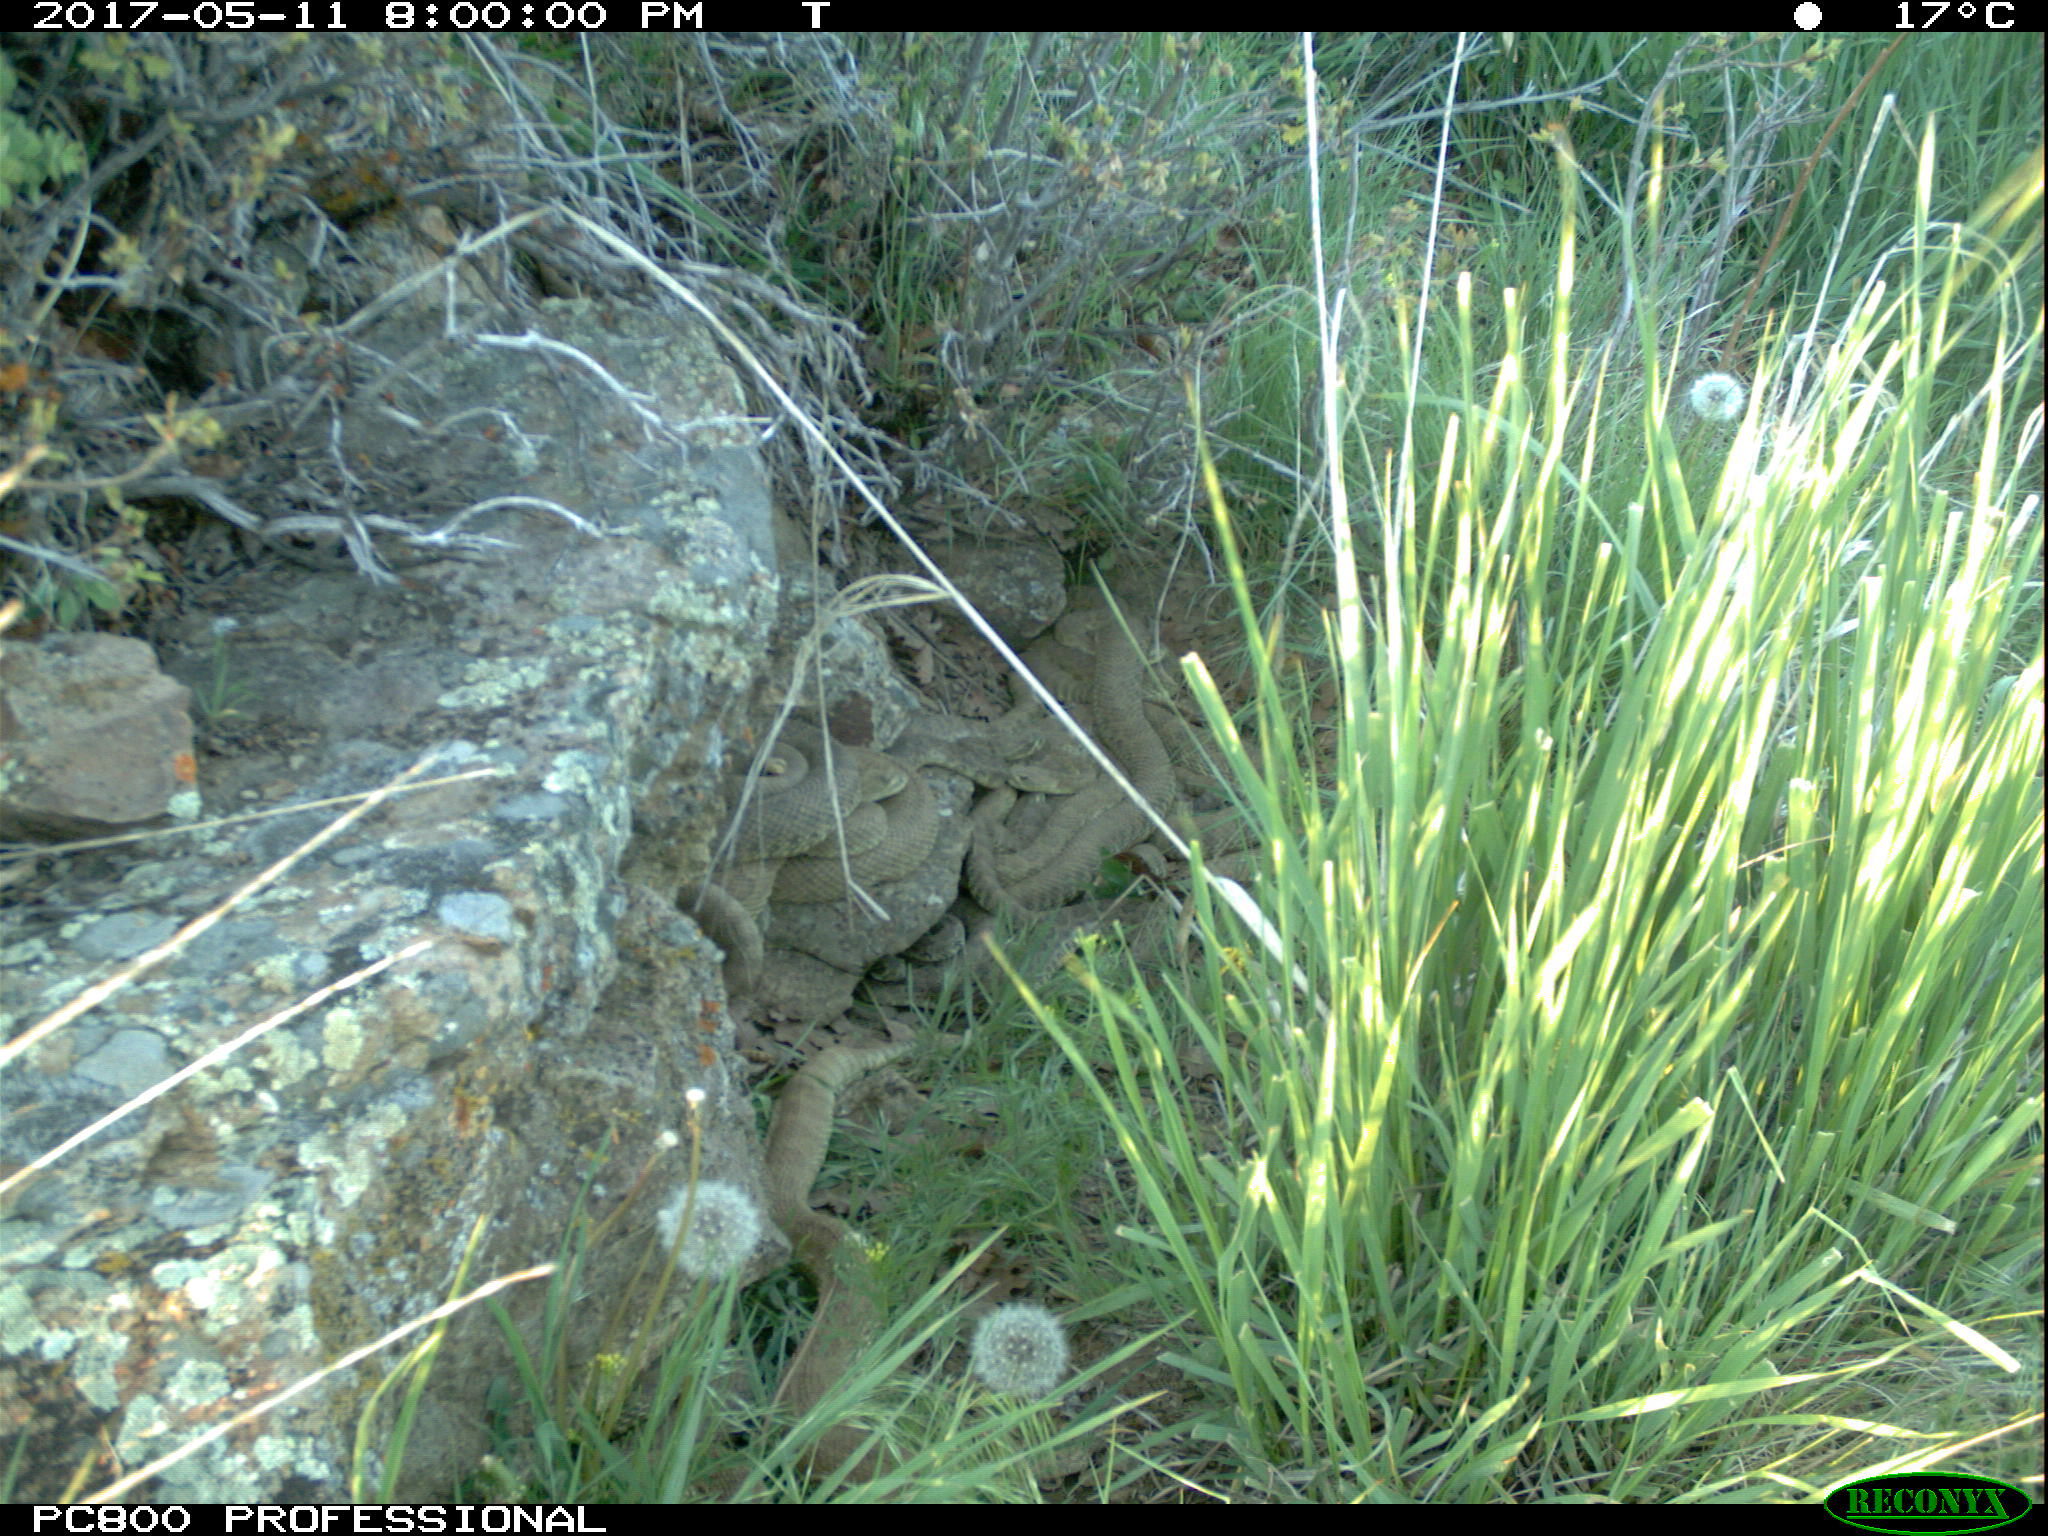snake: (760, 1033, 898, 1484), (1019, 591, 1176, 854), (930, 715, 1097, 908), (731, 726, 932, 876), (1155, 726, 1292, 881), (687, 862, 861, 983)
